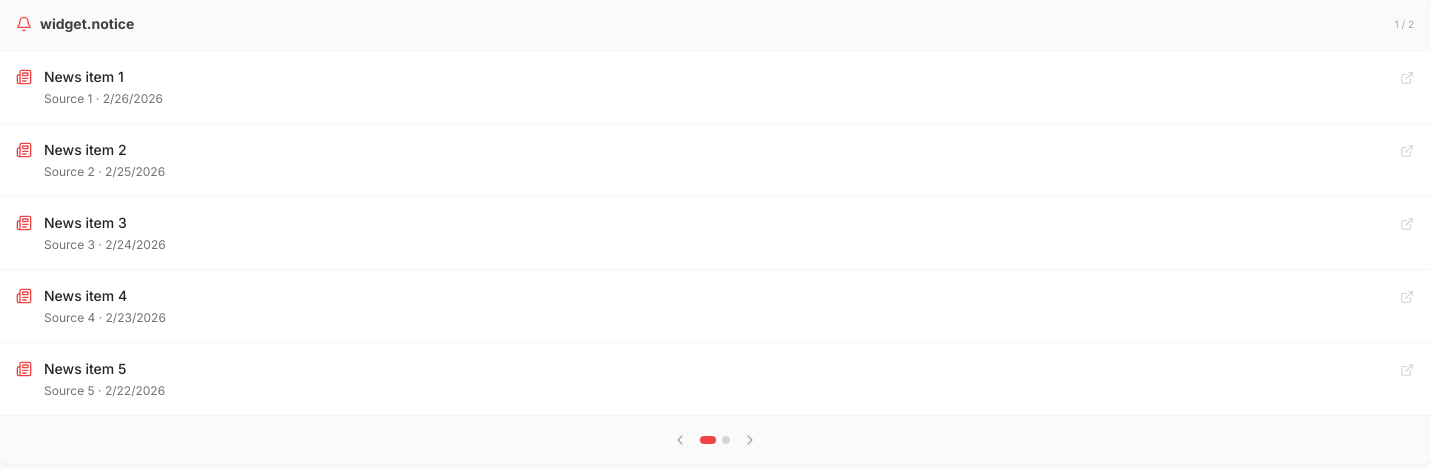
Test: NoticeWidget › navigates to next page via button click
This screenshot has width=1431, height=469.
expect the text "News item 1" is shown: met, box [44,68,124,85]
Click the button named "Next page": coordinates (750, 440) [738,428,762,452]
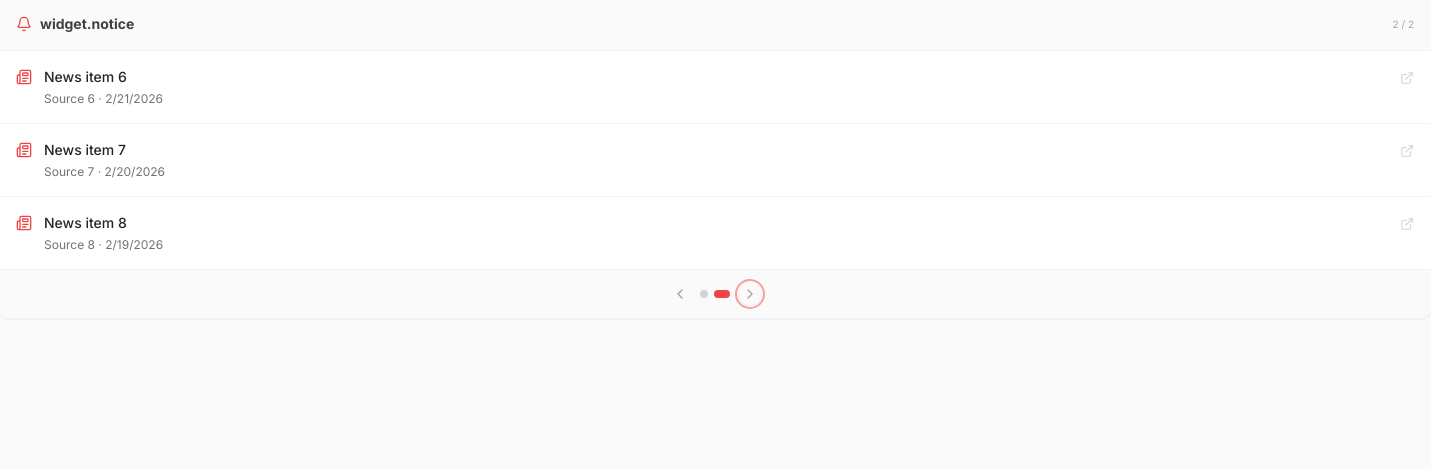
expect the text "News item 6" is shown: met, box [44,68,127,85]
expect the link "News item 1" is gone: met
expect the text "2 / 2" is shown: met, box [1392,16,1414,32]
